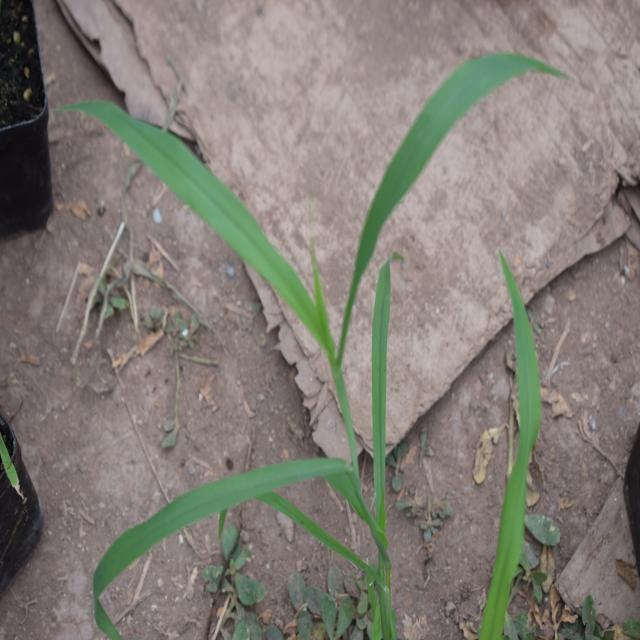crabgrass: (57, 69, 450, 599)
